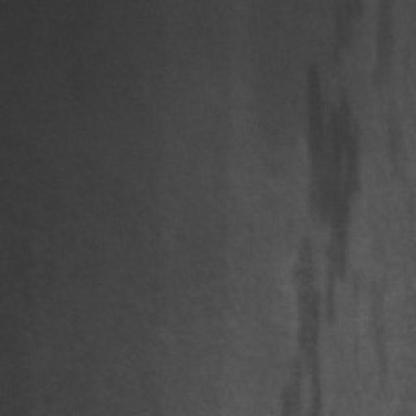inclusion: (275, 4, 368, 408)
